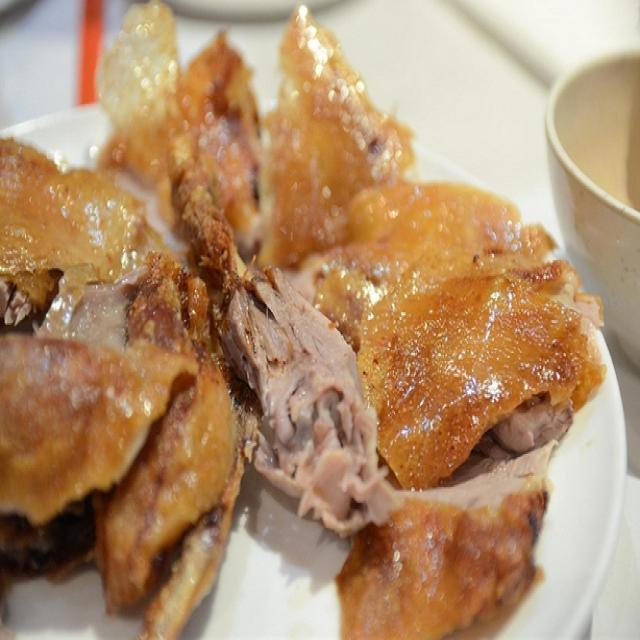烧串烤肉: (9, 17, 612, 615)
